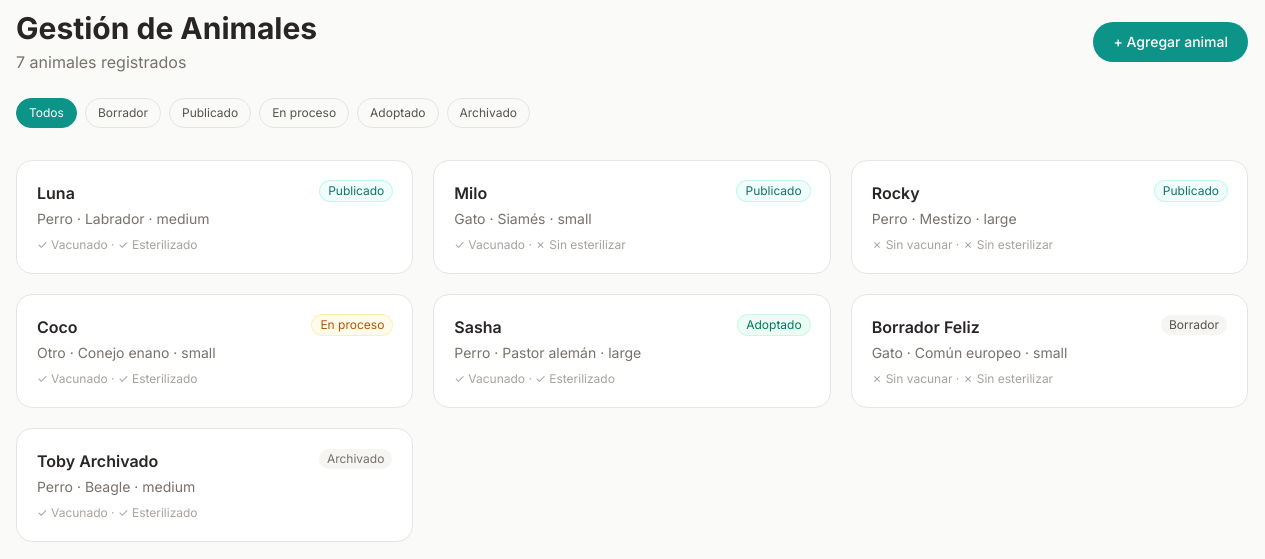
Scenario: ShelterAnimalsPage › filters animals when status button is clicked
Click the button "Borrador" at (123, 113), box 85,98 -> 161,128
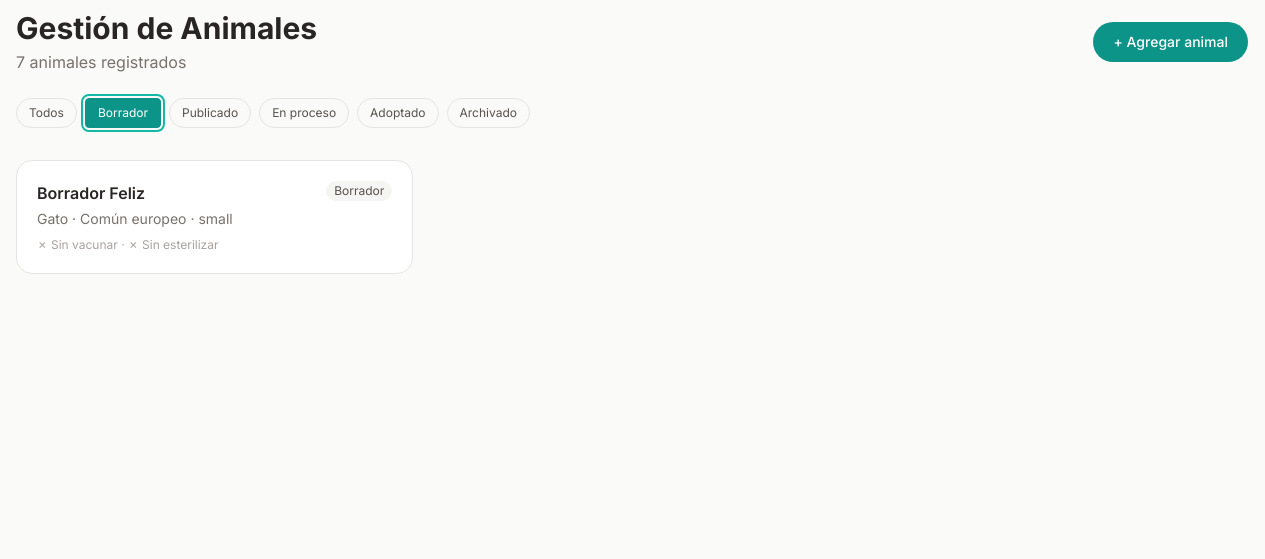
Now the link "Luna" is gone
